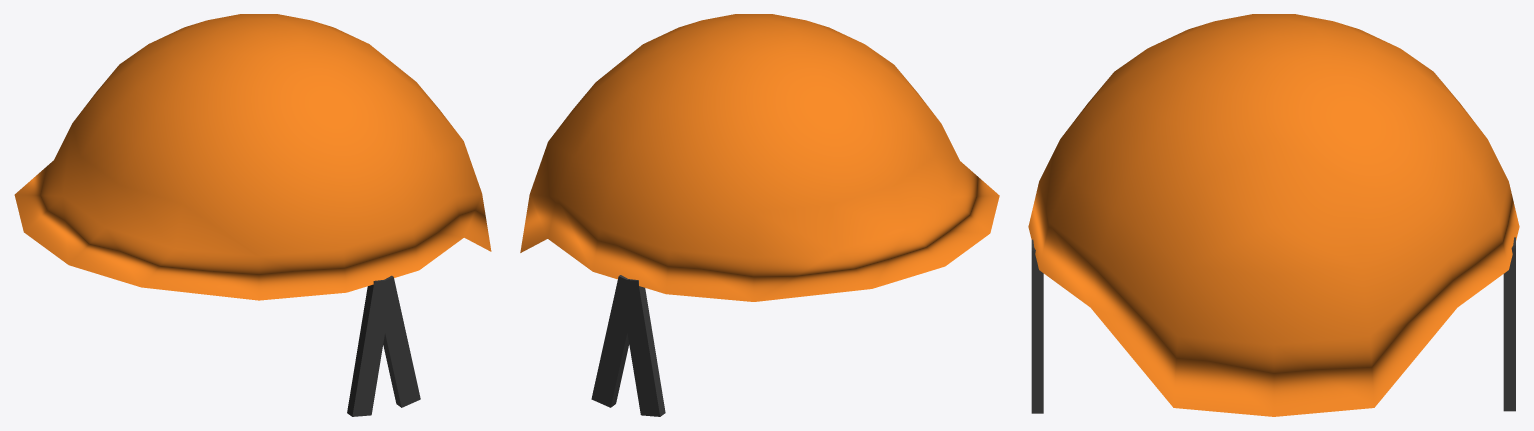
The model's file is casco.obj.
The picture shows the model from 3 angles, left to right: view 1: azimuth 30°, elevation 25°; view 2: azimuth 150°, elevation 25°; view 3: azimuth 270°, elevation 25°; orthographic projection. The views are drawn at different scales.
Visible parts, largest first — view 1: pasted__pCube15 group; view 2: pasted__pCube15 group; view 3: pasted__pCube15 group.
Part boxes in pixels (left/top/right/bottom): pasted__pCube15 group: left=14, top=14, right=491, bottom=416; pasted__pCube15 group: left=520, top=14, right=999, bottom=416; pasted__pCube15 group: left=1028, top=14, right=1519, bottom=416.
Bounding box in the file's own units: 2.22 × 1.56 × 1.98.
Materials: 1 (1 with a texture image).
